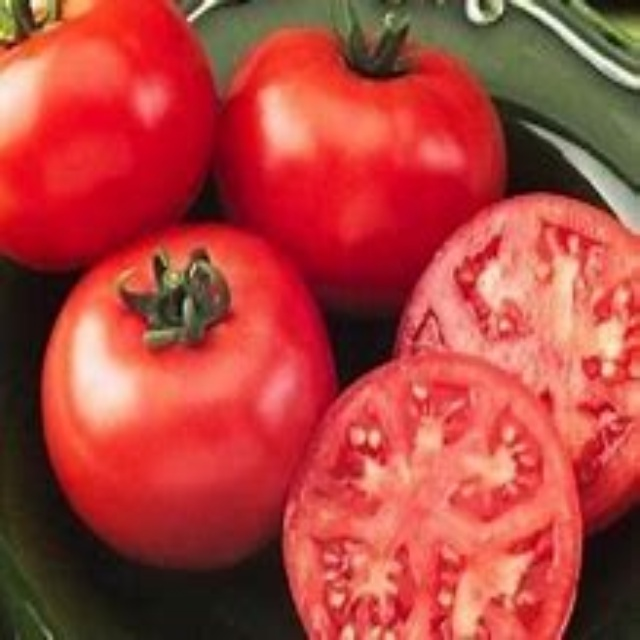tomato: (39, 226, 330, 566), (273, 360, 583, 638), (227, 26, 509, 305), (403, 194, 639, 522), (0, 5, 214, 268)
